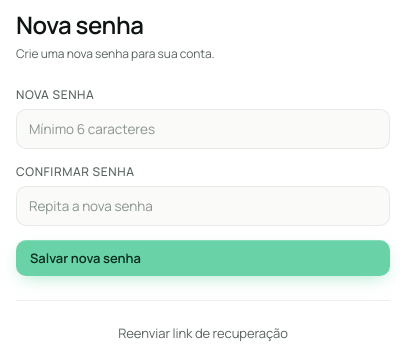
Auth — redefinir senha › redefine a senha e redireciona para /login em caso de sucesso
Type "newpassword123" into the password field with placeholder "Mínimo 6 caracteres" at (203, 129), box left=16, top=109, right=390, bottom=149
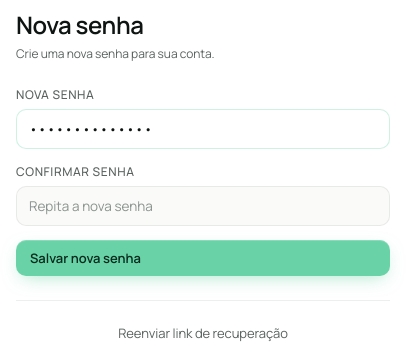
Type "newpassword123" into the password field with placeholder "Repita a nova senha" at (203, 206), box left=16, top=186, right=390, bottom=226
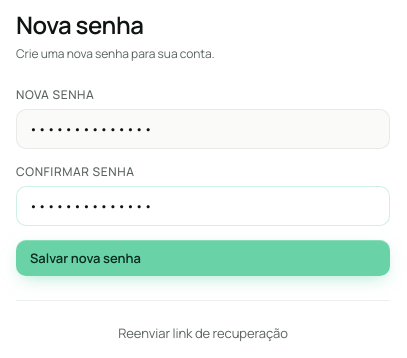
Click the button "Salvar nova senha" at (85, 258), box left=16, top=240, right=390, bottom=276
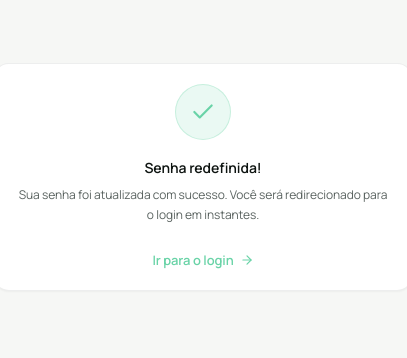
Result: the text "Senha redefinida!" is shown at left=144, top=158, right=262, bottom=177
